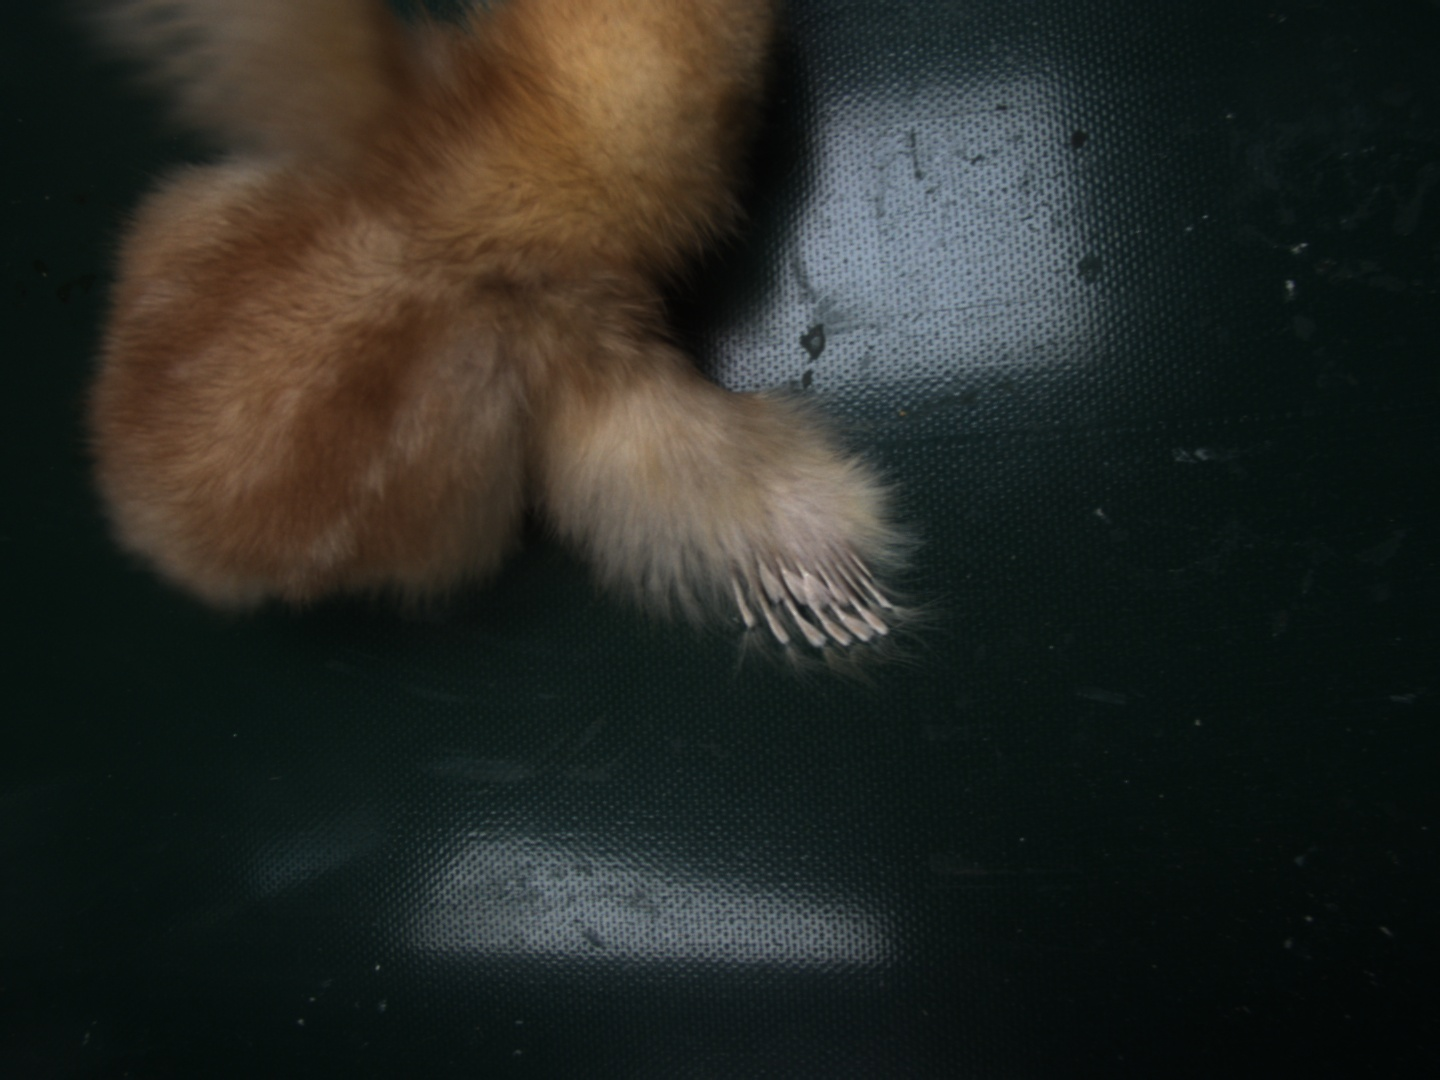female: (729, 534, 910, 653)
